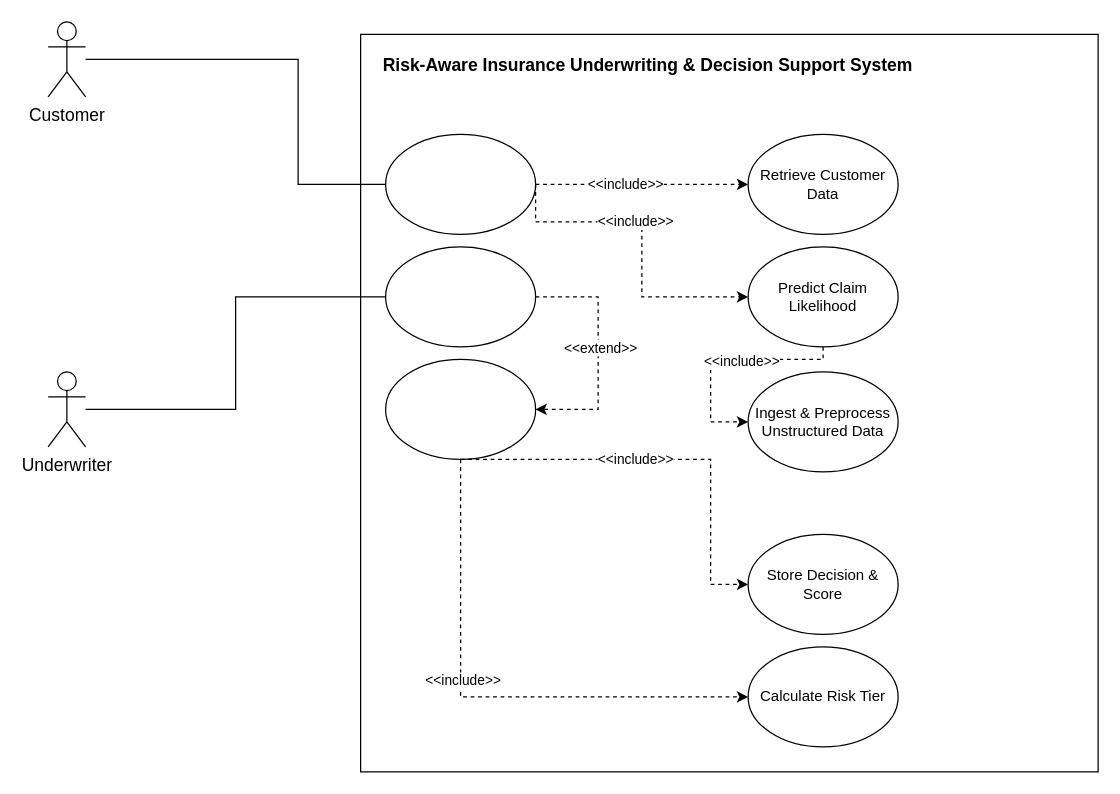
Image size: 1120x794. Some labels were removed from this diagram. Here are the shapes that lost their labels. From the top down, the box of each, then its label:
(384, 133, 536, 234): Request Quote/Policy Update
(384, 246, 536, 347): Review High Risk
(384, 358, 536, 459): Generate Quote/Decision
